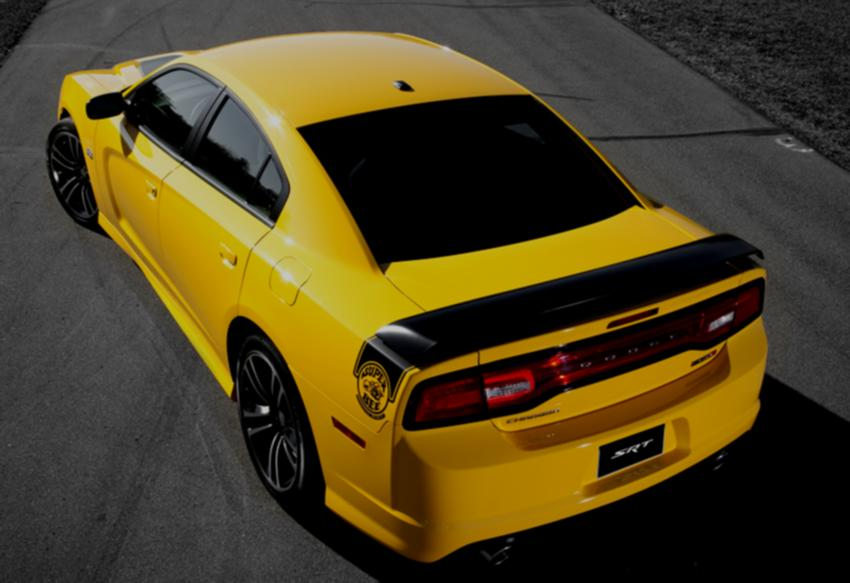dodge: (571, 323, 689, 377)
